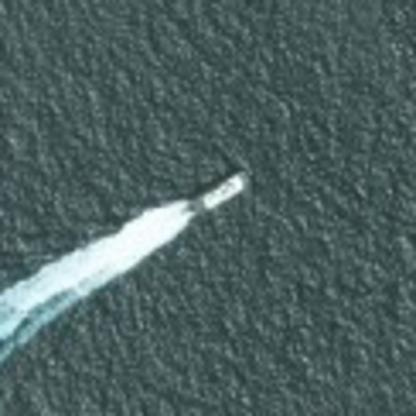ship: (181, 163, 254, 222)
